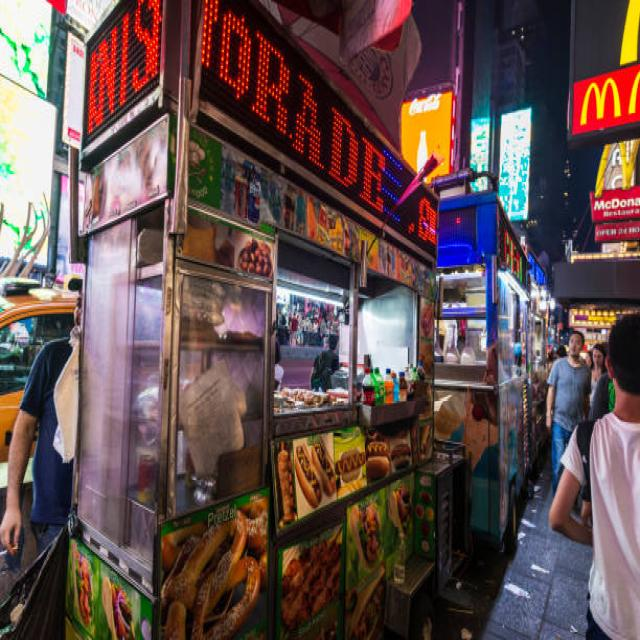Emperan: (64, 0, 475, 640)
